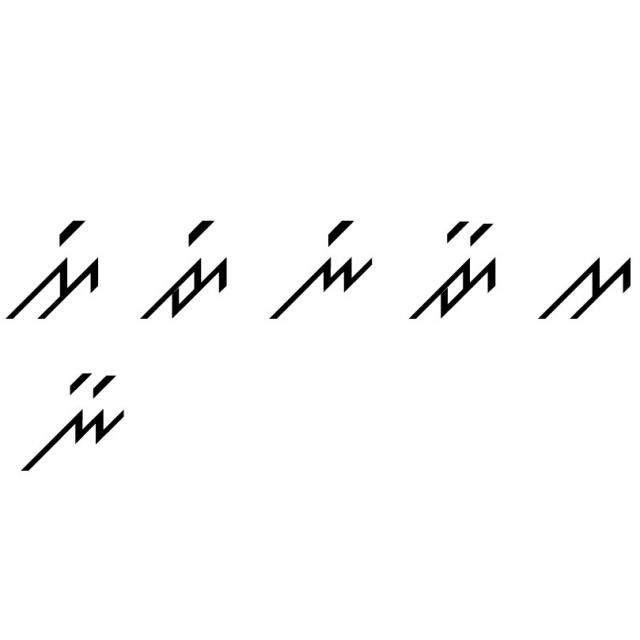jan: (402, 216, 506, 325)
jang: (138, 216, 240, 327)
nyan: (20, 369, 133, 476)
nyang: (263, 214, 378, 330)
sa: (526, 250, 635, 328)
sang: (2, 218, 108, 330)
